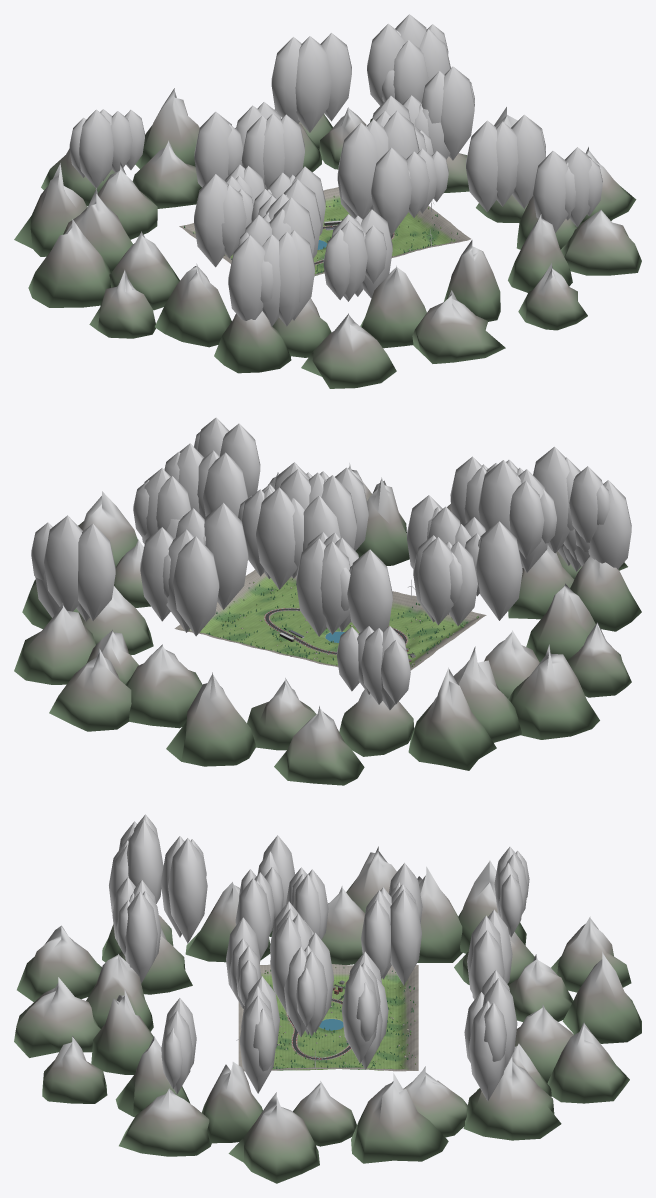
The model's file is verde.glb.
3 views of the same model, one above another, from view 1: azimuth 30°, elevation 25°; view 2: azimuth 150°, elevation 25°; view 3: azimuth 270°, elevation 25° (orthographic). The views are drawn at different scales.
Visible parts, largest first — view 1: CloudMesh, Backdrop, Terrain-col; view 2: CloudMesh, Backdrop, Terrain-col; view 3: Backdrop, CloudMesh, Terrain-col.
Boxes of the visible parts, <box> form: CloudMesh: <box>69,14,602,326</box>; Backdrop: <box>14,88,641,388</box>; Terrain-col: <box>179,187,470,276</box>; CloudMesh: <box>31,417,631,710</box>; Backdrop: <box>14,463,641,785</box>; Terrain-col: <box>174,570,486,670</box>; Backdrop: <box>14,846,641,1183</box>; CloudMesh: <box>109,814,529,1101</box>; Terrain-col: <box>238,964,418,1071</box>.
Size of what is drawn, in the model's own units: 2253 by 584 by 2106.
Materials: 11 (8 with a texture image).
